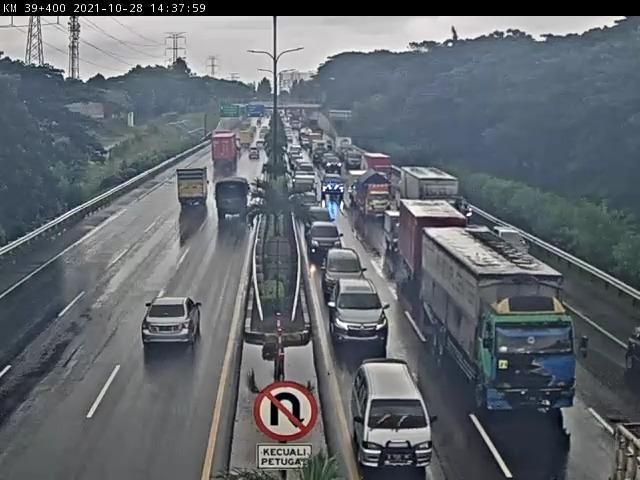bus: (215, 172, 251, 223)
car: (414, 213, 585, 422), (347, 354, 441, 480), (327, 272, 408, 360), (136, 290, 206, 357), (320, 246, 379, 304), (306, 218, 349, 265), (209, 131, 243, 173), (301, 200, 337, 234), (321, 174, 347, 201), (249, 144, 263, 166), (73, 421, 74, 422)
truck: (401, 196, 469, 304), (379, 208, 448, 256), (355, 173, 400, 223), (171, 164, 212, 214)
